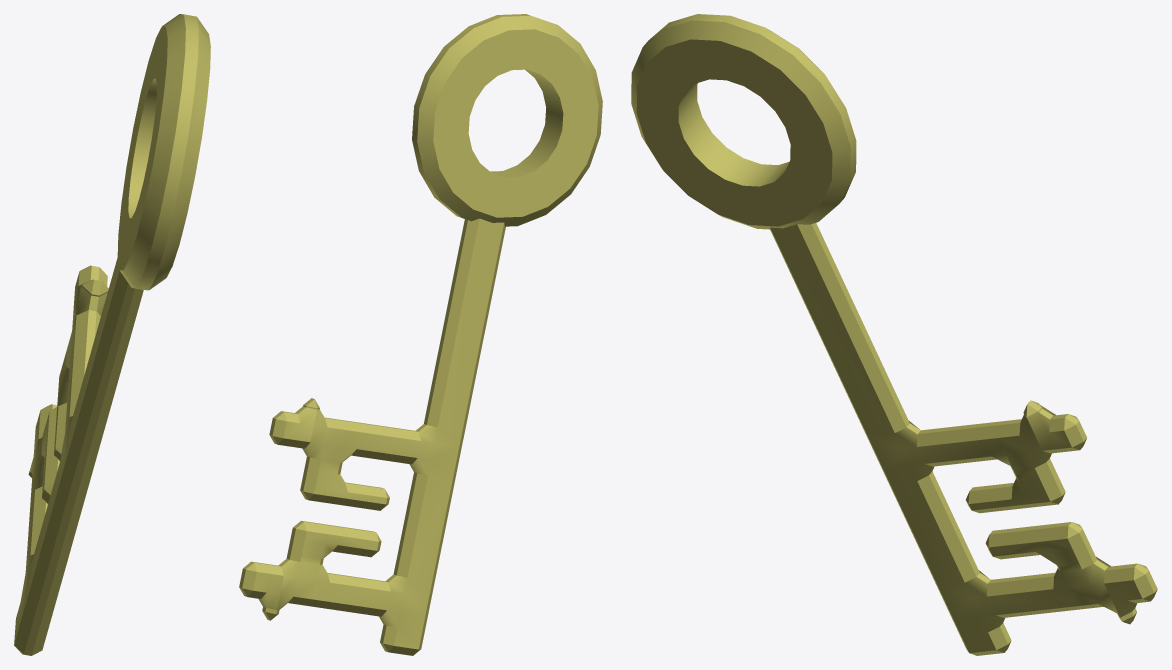
The model's file is KeyAnimation.fbx.
3 views of the same model, side by side, from view 1: azimuth 30°, elevation 25°; view 2: azimuth 150°, elevation 25°; view 3: azimuth 270°, elevation 25° (orthographic). The views are drawn at different scales.
Parts seen in each view (by area): view 1: KeyBody, KeyHandle; view 2: KeyBody, KeyHandle; view 3: KeyBody, KeyHandle.
Part boxes in pixels (left/top/right/bottom): KeyBody: left=14, top=258, right=143, bottom=655; KeyHandle: left=117, top=14, right=210, bottom=290; KeyBody: left=239, top=218, right=505, bottom=655; KeyHandle: left=412, top=14, right=602, bottom=226; KeyBody: left=770, top=223, right=1157, bottom=655; KeyHandle: left=631, top=14, right=856, bottom=229.
Size of the model in its own units: 22.15 by 78.78 by 58.01.
